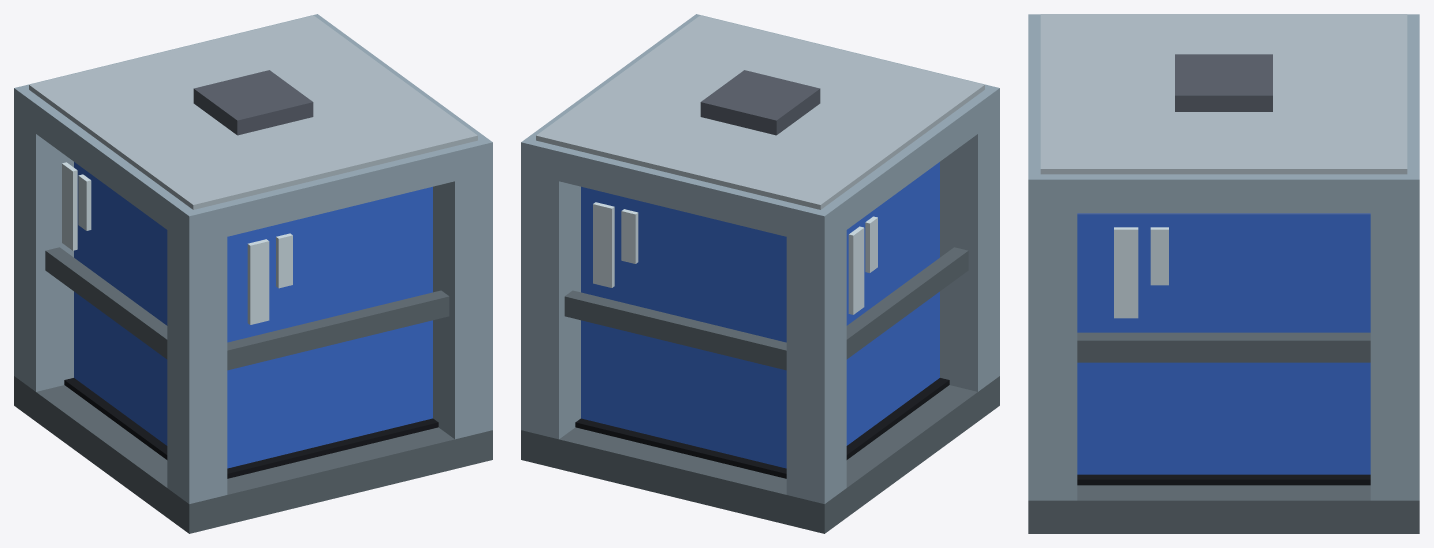
File: tank.glb
The picture shows the model from 3 angles, left to right: view 1: azimuth 30°, elevation 25°; view 2: azimuth 150°, elevation 25°; view 3: azimuth 270°, elevation 25°; orthographic projection. The views are drawn at different scales.
Parts seen in each view (by area): view 1: body.007, level_fluid; view 2: body.007, level_fluid; view 3: body.007, level_fluid.
Boxes of the visible parts, x1,y1,x2,y2 form: body.007: (14, 14, 492, 533); level_fluid: (74, 162, 432, 468); body.007: (521, 14, 999, 533); level_fluid: (581, 162, 939, 468); body.007: (1028, 14, 1419, 533); level_fluid: (1077, 213, 1370, 474).
Bounding box in the file's own units: 1 × 1.06 × 1.
